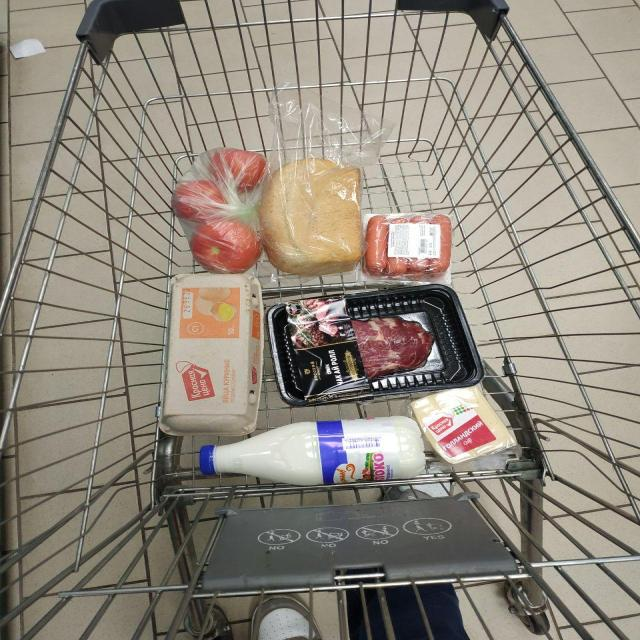Bread: (258, 159, 362, 276)
Cheese: (412, 386, 517, 464)
Eggs: (160, 274, 263, 435)
Meat: (267, 285, 483, 406)
Milk: (200, 416, 425, 485)
Sausages: (360, 214, 450, 284)
Tomatoes: (190, 220, 262, 274), (210, 148, 267, 192), (172, 181, 227, 222)
